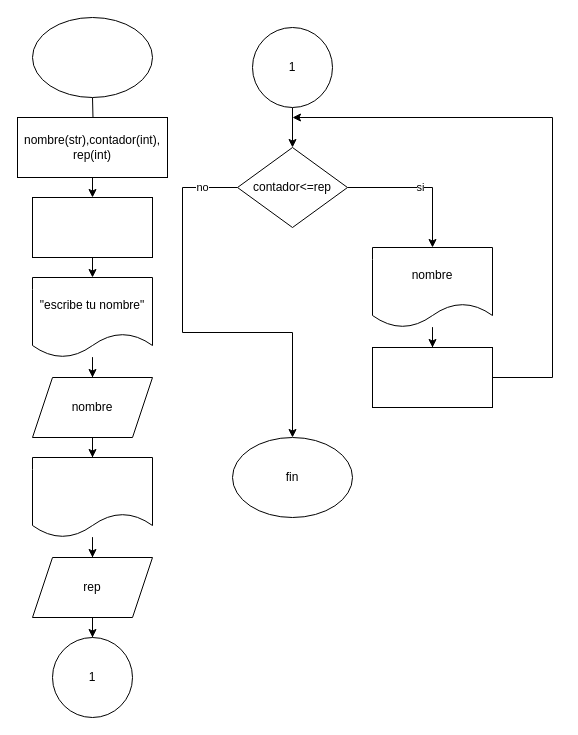
The diagram is 578 pixels wide and 735 high, and some of its shapes have lost their labels. Each missing label, with the centre of its shape:
"cuantas veces quieres imprimir tu nombre": point (92, 497)
contador=1: point (92, 227)
contador=contador+1: point (432, 377)
inicio: point (92, 57)
